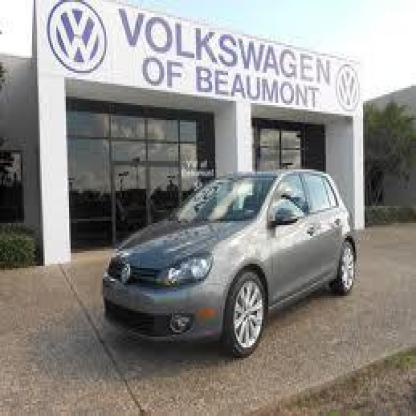Vehicle: (106, 169, 360, 360)
